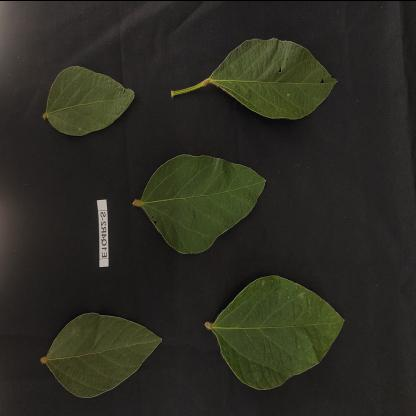label: (88, 187, 118, 283)
leaflets: (209, 263, 355, 396), (123, 138, 279, 256), (204, 19, 350, 134), (31, 303, 162, 402), (31, 48, 136, 140)
